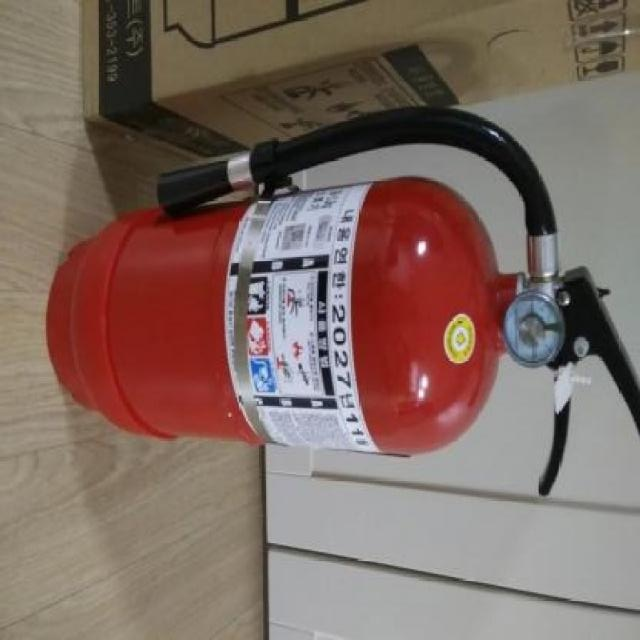fire extinguisher: (46, 104, 640, 498)
